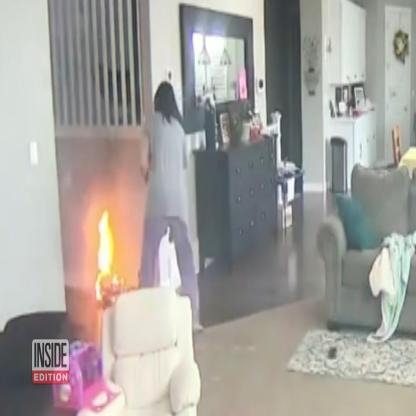fire: (95, 210, 118, 302)
